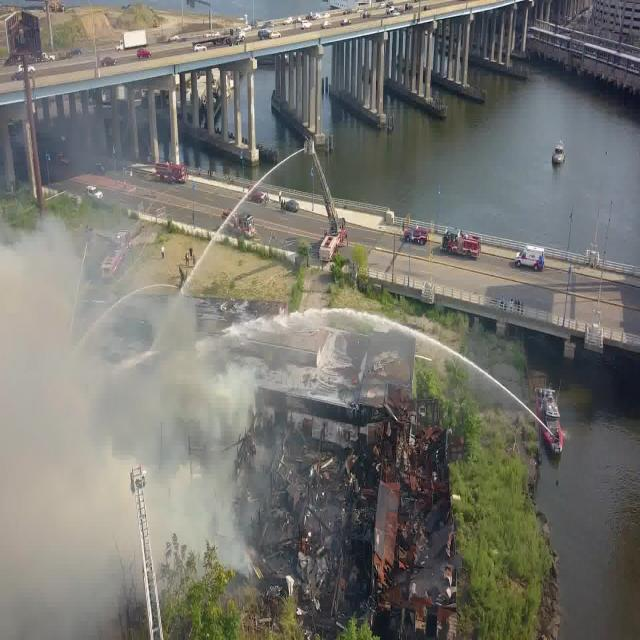smoke: (4, 310, 134, 634)
